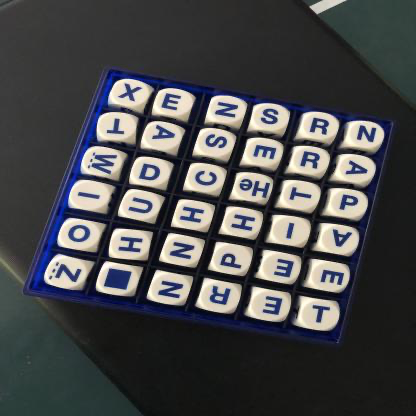a: (322, 226, 360, 255), (146, 123, 183, 151), (340, 155, 376, 183)
c: (188, 166, 227, 192)
d: (133, 159, 171, 187)
e: (263, 253, 302, 283), (311, 262, 350, 292), (252, 291, 292, 320), (155, 89, 194, 117), (247, 140, 283, 167)
h: (176, 201, 215, 230), (224, 209, 263, 238), (112, 232, 151, 261)
he: (235, 175, 274, 202)
i: (71, 183, 110, 211), (273, 218, 311, 246)
n: (151, 274, 193, 305), (165, 237, 203, 267), (209, 98, 246, 124), (349, 123, 385, 149)
o: (59, 221, 101, 251)
p: (214, 246, 253, 275), (332, 190, 369, 218)
r: (202, 282, 241, 312), (294, 148, 330, 175), (303, 114, 340, 140)
s: (197, 130, 236, 158), (253, 104, 290, 132)
t: (302, 300, 340, 331), (283, 182, 321, 211), (99, 114, 137, 140)
u: (122, 192, 162, 221)
w: (84, 149, 122, 177)
wild: (99, 265, 139, 296)
x: (112, 81, 151, 107)
z: (47, 259, 88, 288)
